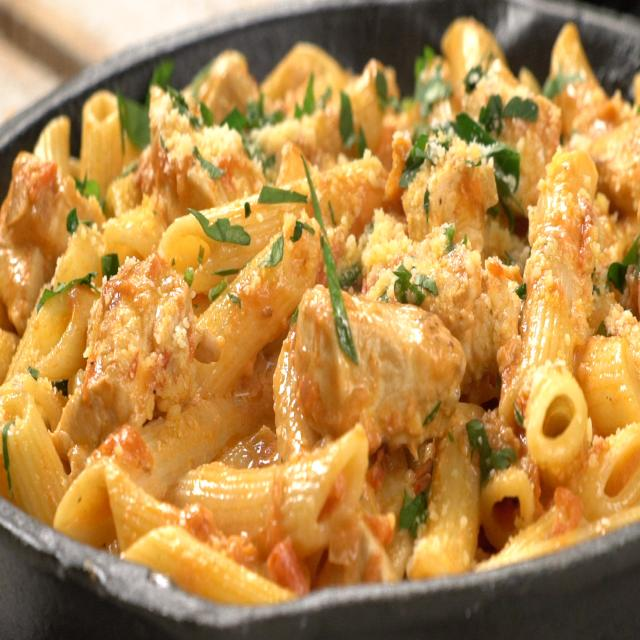pasta: (13, 57, 618, 590)
